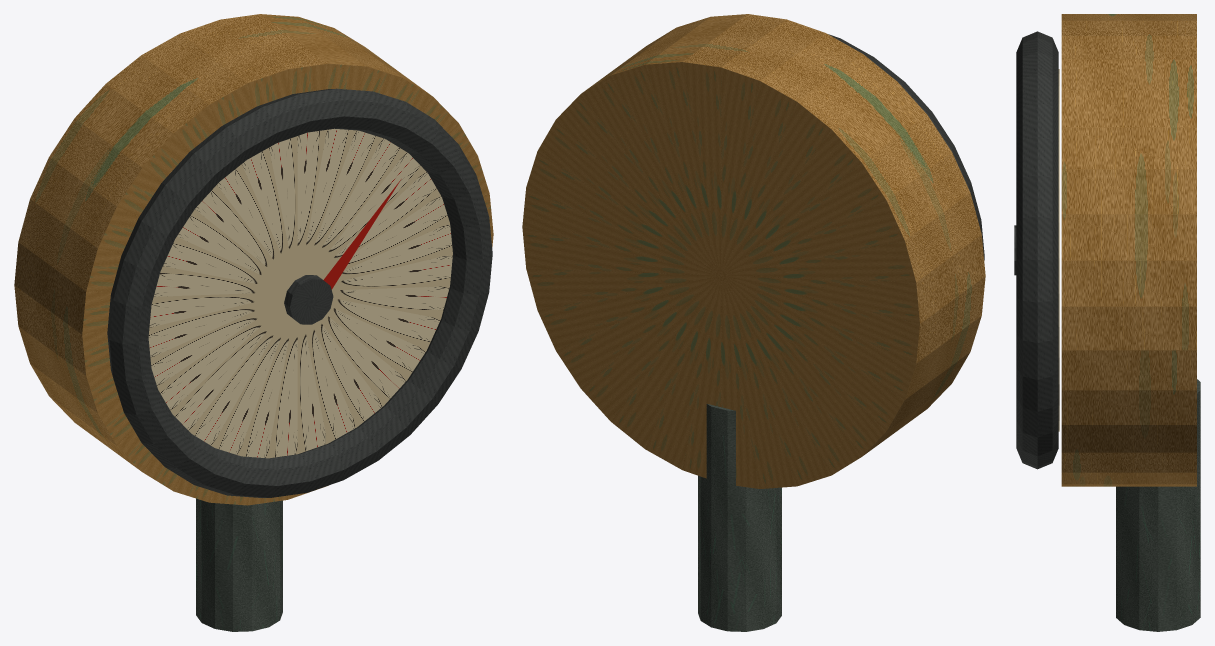
Rendered from SM_PressureGauge_Prop.obj.
3 views of the same model, side by side, from view 1: azimuth 30°, elevation 25°; view 2: azimuth 150°, elevation 25°; view 3: azimuth 270°, elevation 25° (orthographic). The views are drawn at different scales.
Visible parts, largest first — view 1: Gauge_DialFace, Brass_GaugeHousing, Iron_FrontBezel, Lower_PipeSocket, Gauge_CenterPin, Gauge_RedNeedle; view 2: Brass_GaugeHousing, Lower_PipeSocket, Iron_FrontBezel; view 3: Brass_GaugeHousing, Iron_FrontBezel, Lower_PipeSocket, Gauge_DialFace.
Part boxes in pixels (x1=…): Gauge_DialFace: x1=148, y1=128, x2=452, y2=458; Brass_GaugeHousing: x1=14, y1=14, x2=493, y2=505; Iron_FrontBezel: x1=107, y1=88, x2=492, y2=497; Lower_PipeSocket: x1=196, y1=498, x2=282, y2=631; Gauge_CenterPin: x1=284, y1=275, x2=333, y2=324; Gauge_RedNeedle: x1=323, y1=179, x2=401, y2=289; Brass_GaugeHousing: x1=522, y1=14, x2=985, y2=488; Lower_PipeSocket: x1=698, y1=404, x2=781, y2=631; Iron_FrontBezel: x1=828, y1=34, x2=984, y2=260; Brass_GaugeHousing: x1=1061, y1=14, x2=1196, y2=486; Iron_FrontBezel: x1=1016, y1=31, x2=1058, y2=469; Lower_PipeSocket: x1=1116, y1=379, x2=1200, y2=631; Gauge_DialFace: x1=1058, y1=69, x2=1059, y2=431.
Bounding box in the file's own units: 0.49 × 0.66 × 0.1929.
5 materials, 4 textured.
